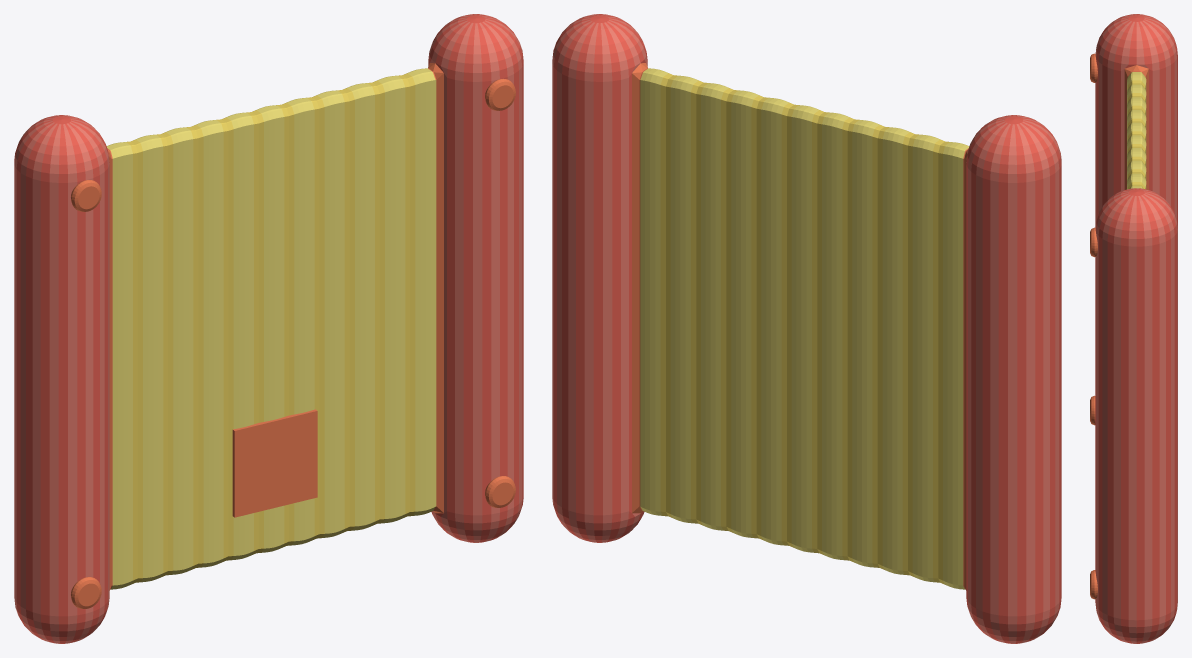
The model's file is Trampline.fbx.
The picture shows the model from 3 angles, left to right: view 1: azimuth 30°, elevation 25°; view 2: azimuth 150°, elevation 25°; view 3: azimuth 270°, elevation 25°; orthographic projection. The views are drawn at different scales.
Visible parts, largest first — view 1: Trampline; view 2: Trampline; view 3: Trampline.
Part boxes in pixels (x1,y1,x2,y2): Trampline: [14, 14, 523, 643]; Trampline: [552, 14, 1061, 643]; Trampline: [1090, 14, 1177, 643].
Bounding box in the file's own units: 1200 × 1200 × 213.
